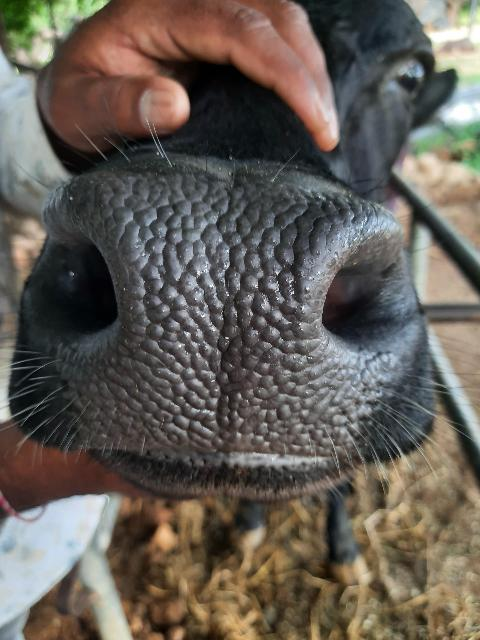Muzzle: (68, 173, 366, 454)
